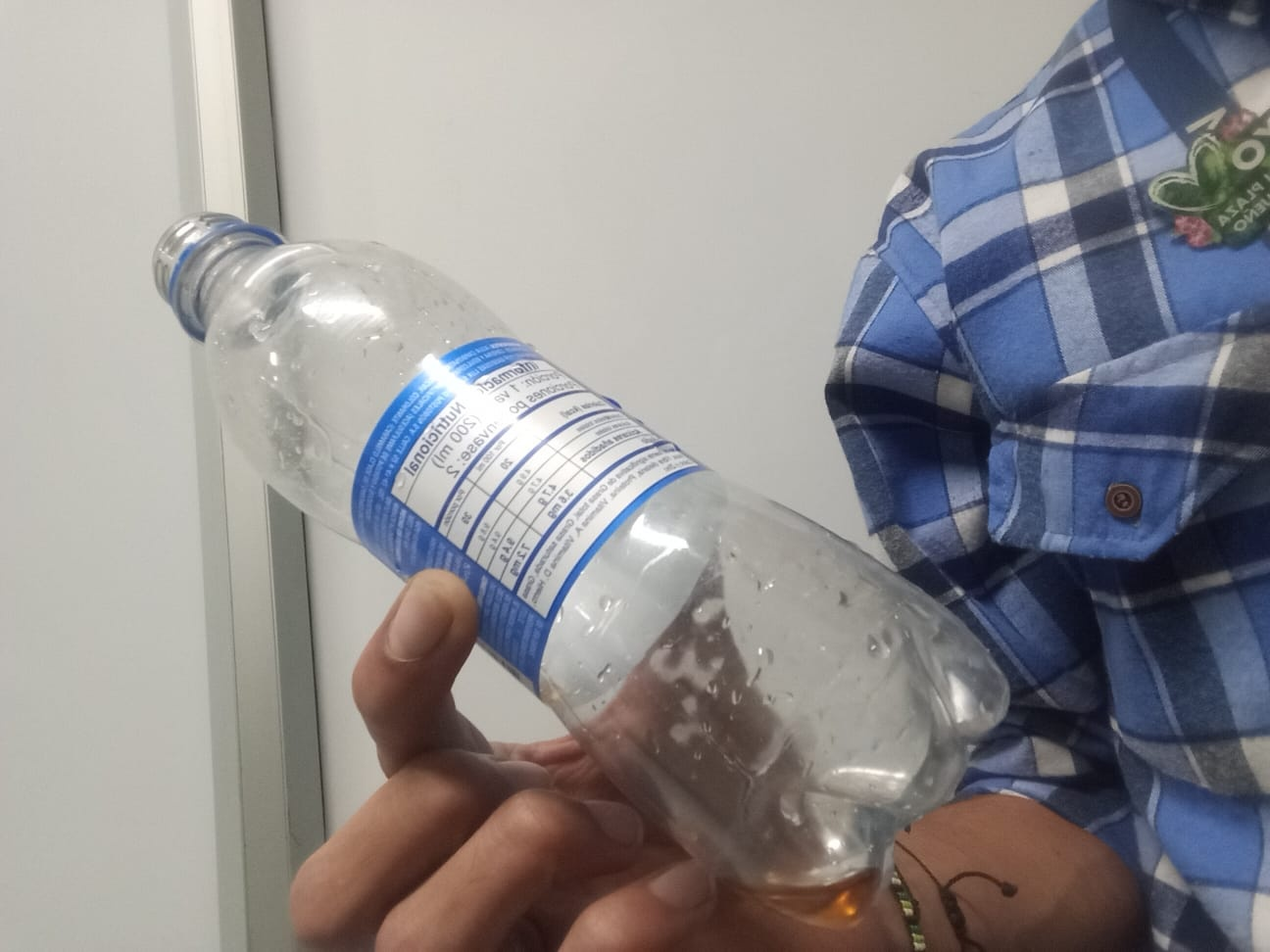Plastico: (153, 211, 1011, 931)
